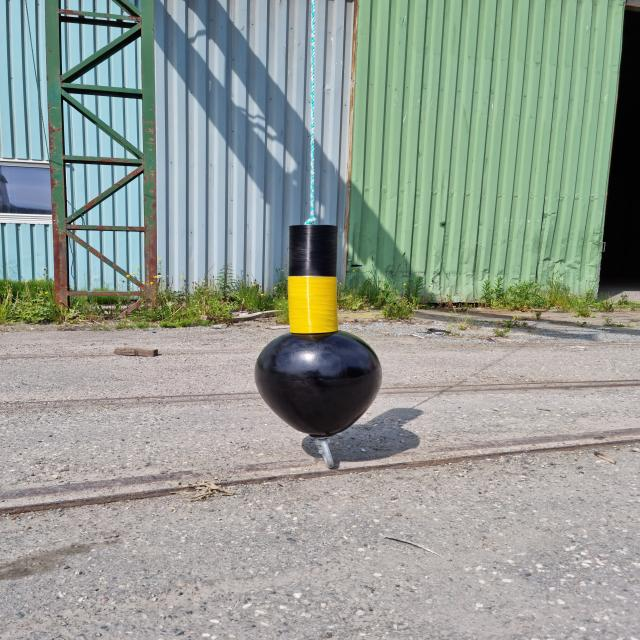east: (254, 224, 384, 436)
